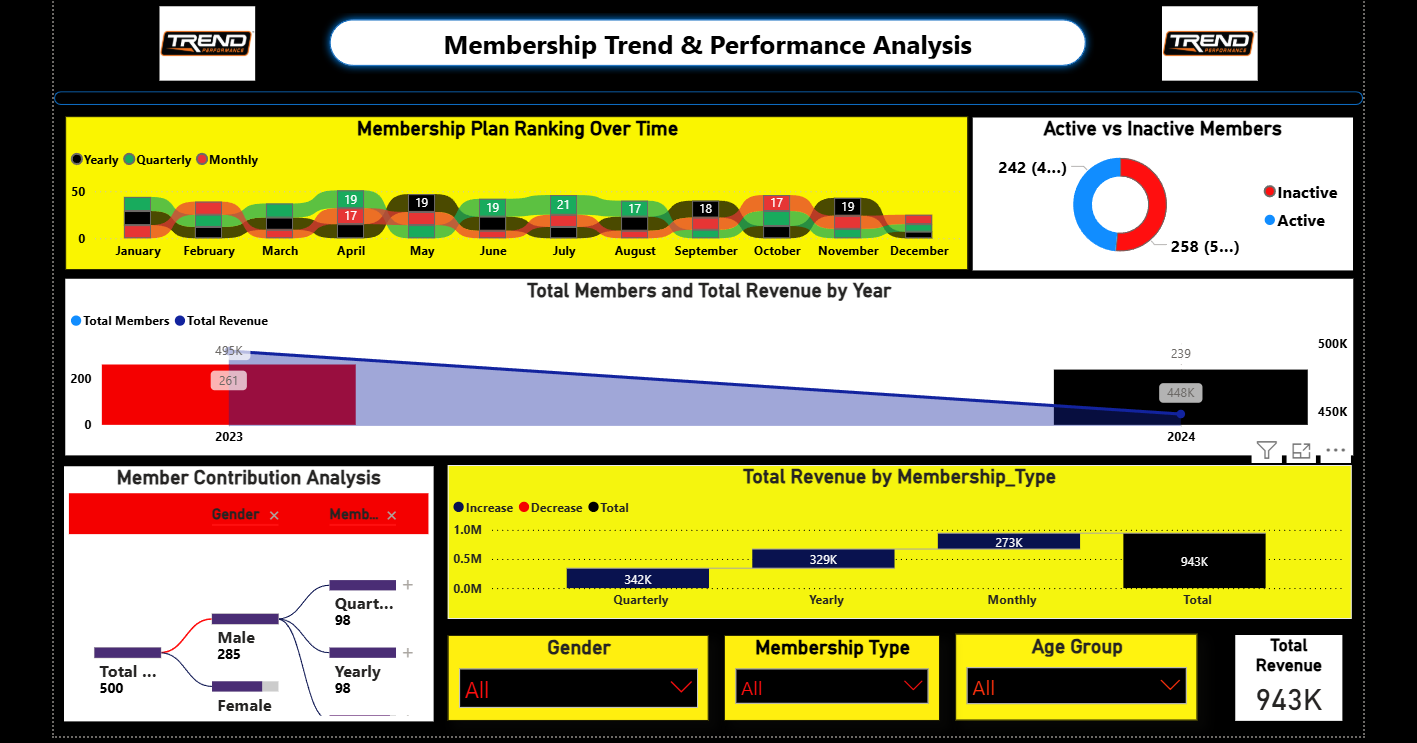

Layout of this report page (visuals, bound fields, positions):
{"tool":"powerbi","page":{"name":"Membership Trend & Performance Analysis","canvas":[1280,720],"ordinal":2},"visuals":[{"type":"shape","box":[261.4,11.4,755.7,61.4],"z":0},{"type":"image","box":[0,6,300,73.1],"z":1000},{"type":"image","box":[980.6,6,300,73.1],"z":2000},{"type":"shape","box":[0,89.6,1280.6,13.4],"z":3000},{"type":"card","title":"Total Revenue","fields":{"Values":["GymData.Total Revenue"]},"box":[1155.6,621,104.9,84],"z":4000},{"type":"ribbonChart","title":"Membership Plan Ranking Over Time","fields":{"Series":["GymData.Membership_Type"],"Y":["CountNonNull(GymData.Member_ID)"],"Category":["GymData.Join_Date.Variation.Date Hierarchy.Month"]},"box":[10.4,113.4,883.6,150.7],"z":5000},{"type":"donutChart","title":"Active vs Inactive Members","fields":{"Category":["GymData.Status"],"Y":["CountNonNull(GymData.Member_ID)"]},"box":[898.5,114.9,371.6,149.3],"z":6000},{"type":"lineClusteredColumnComboChart","fields":{"Category":["GymData.Join_Date.Variation.Date Hierarchy.Year"],"Y":["GymData.Total Members"],"Y2":["GymData.Total Revenue"]},"box":[10.4,273.1,1259.7,173.1],"z":7000},{"type":"waterfallChart","fields":{"Category":["GymData.Membership_Type"],"Y":["GymData.Total Revenue"]},"box":[385.2,454.3,884,150.6],"z":8000},{"type":"decompositionTreeVisual","title":"Member Contribution Analysis","fields":{"Analyze":["GymData.Total Members"],"ExplainBy":["GymData.Gender","GymData.Membership_Type","GymData.Age Group"]},"box":[9.9,455.6,361.7,249.4],"z":9000},{"type":"slicer","title":"Gender","fields":{"Values":["GymData.Gender"]},"box":[385.2,621,255.6,84],"z":10000},{"type":"slicer","title":"Age Group","fields":{"Values":["GymData.Age Group"]},"box":[881.5,619.8,237,85.2],"z":11000},{"type":"slicer","title":"Membership Type","fields":{"Values":["GymData.Membership_Type"]},"box":[655.6,621,211.1,84],"z":12000}]}

Visuals, with their boxes in screenshot pixels (x1, y1, x2, y2):
shape: 317, 12, 1085, 74
image: 52, 6, 356, 80
image: 1048, 6, 1353, 80
shape: 52, 91, 1353, 105
"Total Revenue" card: 1226, 631, 1332, 716
"Membership Plan Ranking Over Time" ribbonChart: 62, 115, 960, 268
"Active vs Inactive Members" donutChart: 964, 117, 1342, 268
lineClusteredColumnComboChart - GymData.Join_Date.Variation.Date Hierarchy.Year x GymData.Total Members: 62, 277, 1342, 453
waterfallChart - GymData.Membership_Type x GymData.Total Revenue: 443, 462, 1341, 615
"Member Contribution Analysis" decompositionTreeVisual: 62, 463, 429, 716
"Gender" slicer: 443, 631, 703, 716
"Age Group" slicer: 947, 630, 1188, 716
"Membership Type" slicer: 718, 631, 932, 716
